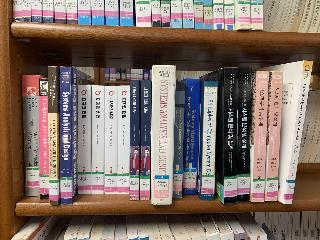book-spine: (283, 60, 313, 205), (150, 65, 176, 206), (266, 71, 284, 202), (181, 78, 201, 195), (252, 71, 269, 203), (22, 75, 40, 196), (236, 68, 252, 202), (200, 81, 218, 200), (223, 68, 238, 204), (60, 67, 72, 204), (47, 66, 58, 205), (91, 85, 105, 194), (78, 85, 91, 194), (173, 81, 185, 199), (105, 86, 118, 194), (117, 86, 130, 194), (140, 80, 151, 200), (39, 79, 49, 199), (129, 80, 139, 200)
